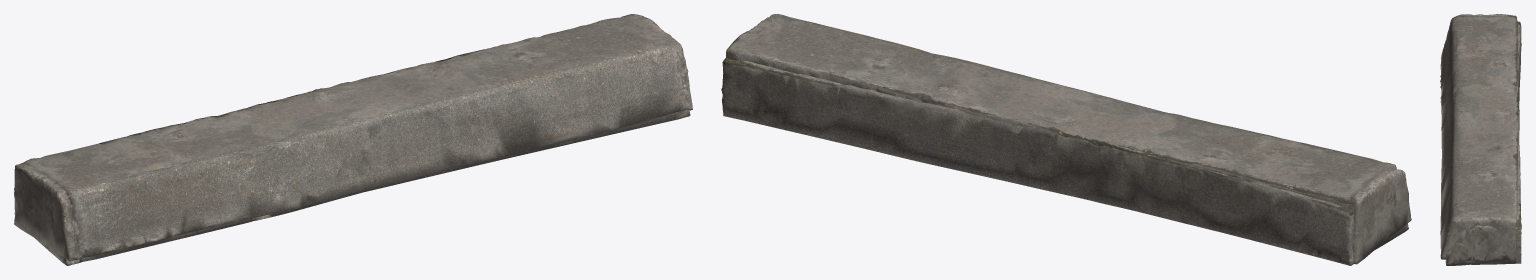
3 views of the same model, side by side, from view 1: azimuth 30°, elevation 25°; view 2: azimuth 150°, elevation 25°; view 3: azimuth 270°, elevation 25° (orthographic). The views are drawn at different scales.
Visible parts, largest first — view 1: sepxW_LOD0_TIER2_001, sepxW_LOD0_TIER2_000; view 2: sepxW_LOD0_TIER2_001, sepxW_LOD0_TIER2_000; view 3: sepxW_LOD0_TIER2_001, sepxW_LOD0_TIER2_000.
Part boxes in pixels (<box>): sepxW_LOD0_TIER2_001: <box>14,14,692,265</box>; sepxW_LOD0_TIER2_000: <box>14,101,690,260</box>; sepxW_LOD0_TIER2_001: <box>726,14,1408,265</box>; sepxW_LOD0_TIER2_000: <box>721,58,1411,264</box>; sepxW_LOD0_TIER2_001: <box>1440,21,1521,261</box>; sepxW_LOD0_TIER2_000: <box>1440,14,1521,265</box>.
Size of the model in its own units: 1.04 by 0.1153 by 0.174.
Materials: 1 (1 with a texture image).
